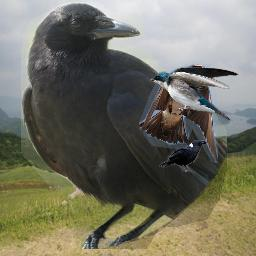Crow: (21, 2, 227, 249), (159, 140, 207, 174)
Swallow: (139, 64, 218, 163), (149, 66, 239, 121)
